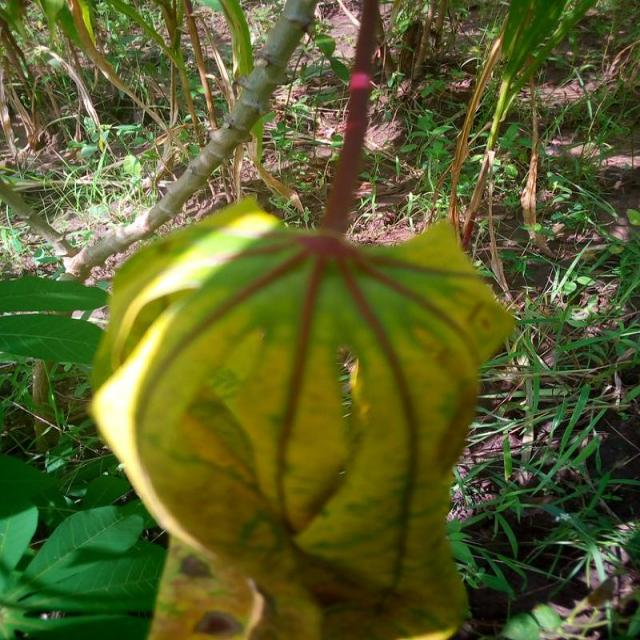cassava leaf: (88, 197, 516, 638)
